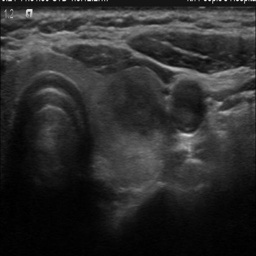mass: (105, 77, 167, 135)
